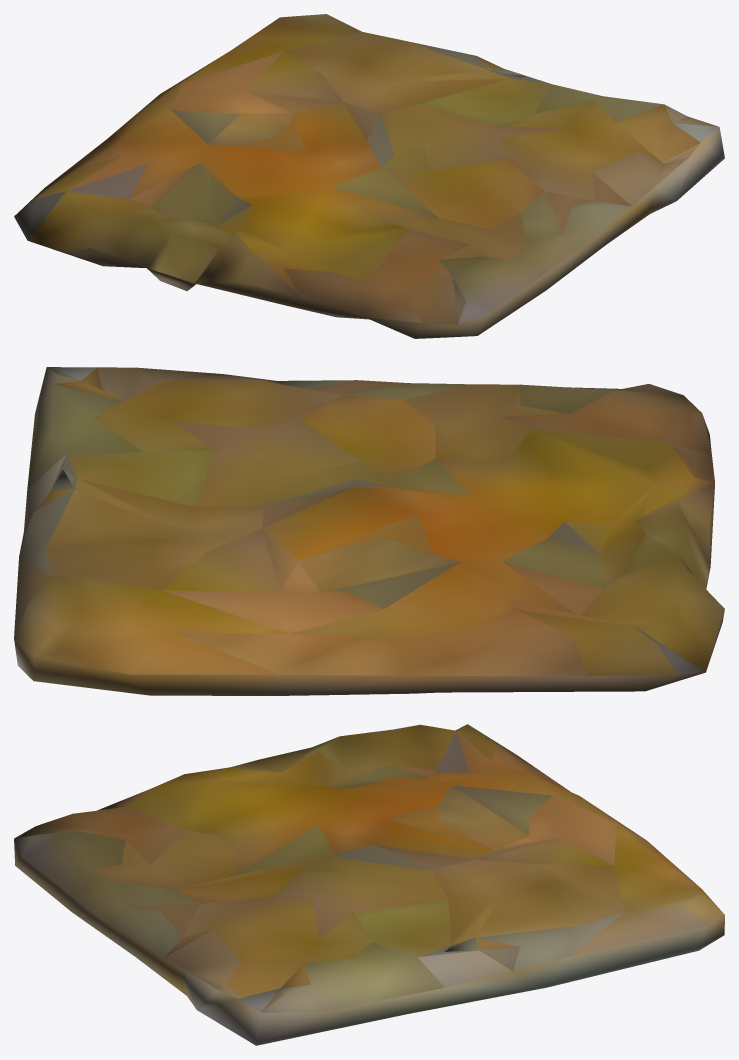
The model's file is cheese.glb.
3 renders of one model, top to bottom at view 1: azimuth 30°, elevation 25°; view 2: azimuth 150°, elevation 25°; view 3: azimuth 270°, elevation 25°, orthographic. The views are drawn at different scales.
Parts seen in each view (by area): view 1: cheese; view 2: cheese; view 3: cheese.
Boxes of the visible parts, left/top/right/bottom form: cheese: left=14, top=14, right=724, bottom=338; cheese: left=14, top=367, right=724, bottom=695; cheese: left=14, top=724, right=724, bottom=1045.
Size of the model in its own units: 10.15 by 1.11 by 9.99.
3 materials, 2 textured.
